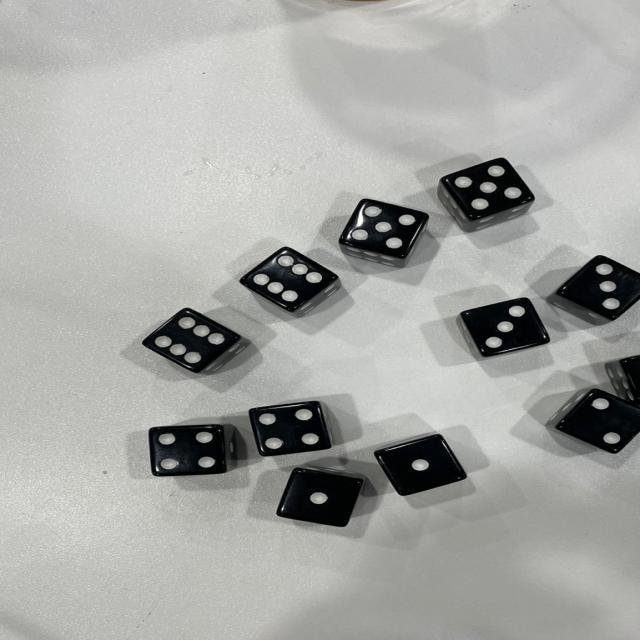DICE1: (394, 429, 479, 488), (294, 472, 380, 521)
DICE2: (550, 394, 640, 457), (616, 349, 640, 400)
DICE3: (450, 298, 560, 357), (563, 253, 640, 317)
DICE4: (241, 402, 363, 458), (141, 420, 240, 477)
DICE5: (330, 194, 441, 265), (439, 157, 556, 222)
DICE6: (241, 239, 347, 324), (138, 302, 243, 374)
